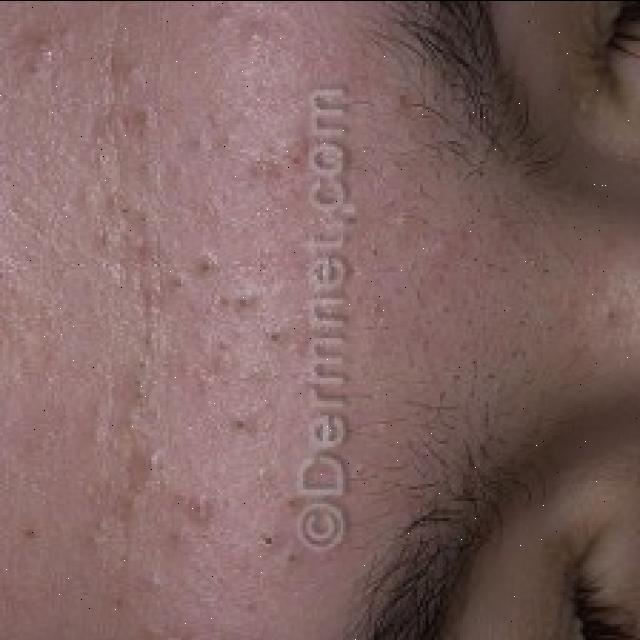Acne: (0, 23, 306, 611)
